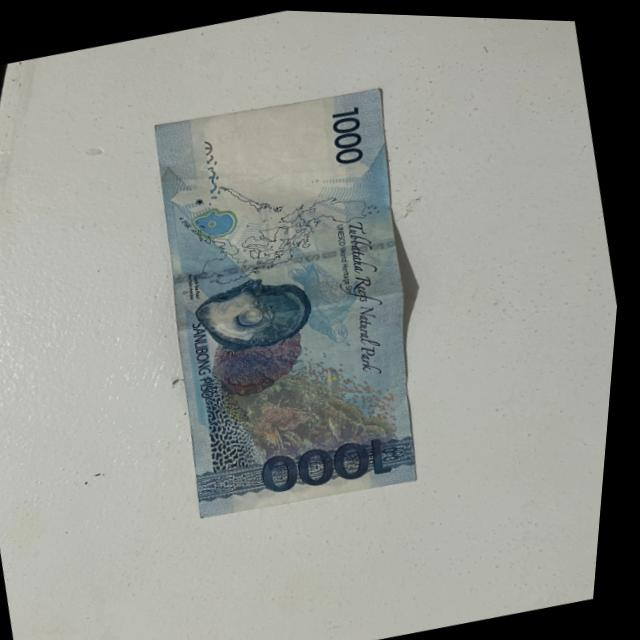1000_pearl: (186, 267, 318, 358)
1000_pearl_watermark: (191, 200, 243, 240)
value_watermark: (214, 110, 278, 150)
watermark: (199, 102, 365, 230)
